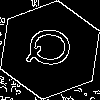Q: (25, 25, 82, 71)
